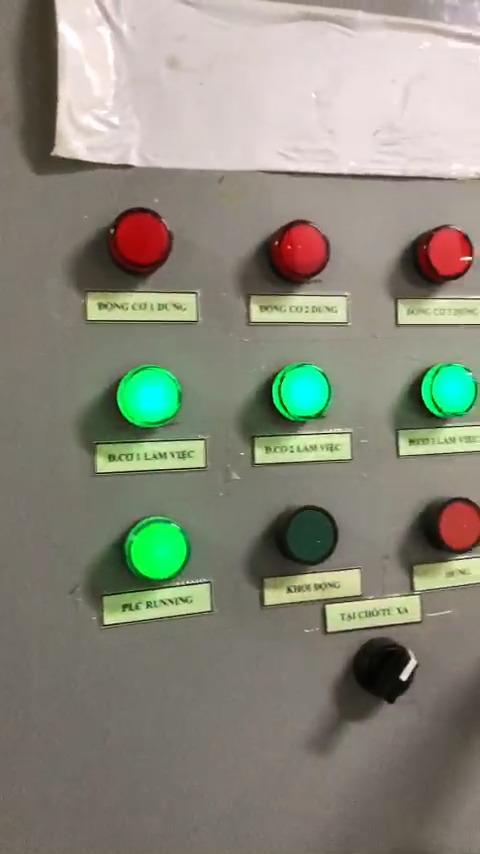led: (108, 365, 185, 434), (263, 216, 335, 283), (277, 501, 344, 569), (123, 515, 190, 582), (268, 361, 334, 429), (108, 205, 174, 271), (417, 356, 480, 421), (413, 215, 475, 281), (418, 494, 480, 554)
twist: (348, 635, 418, 702)
